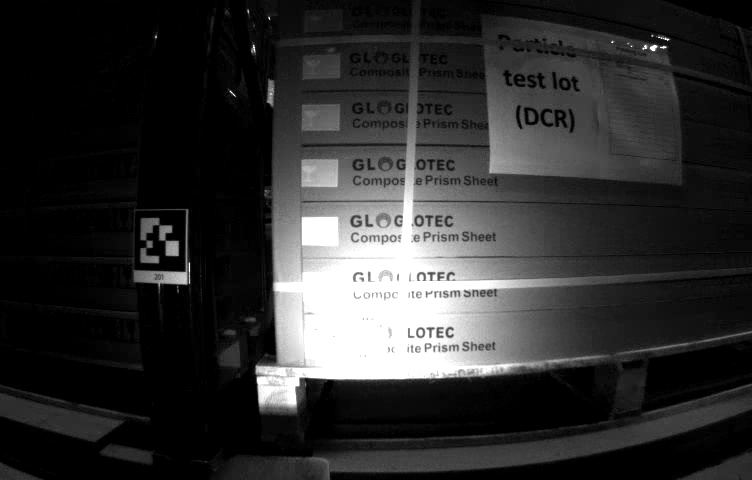True Barcode: (325, 315, 379, 364)
